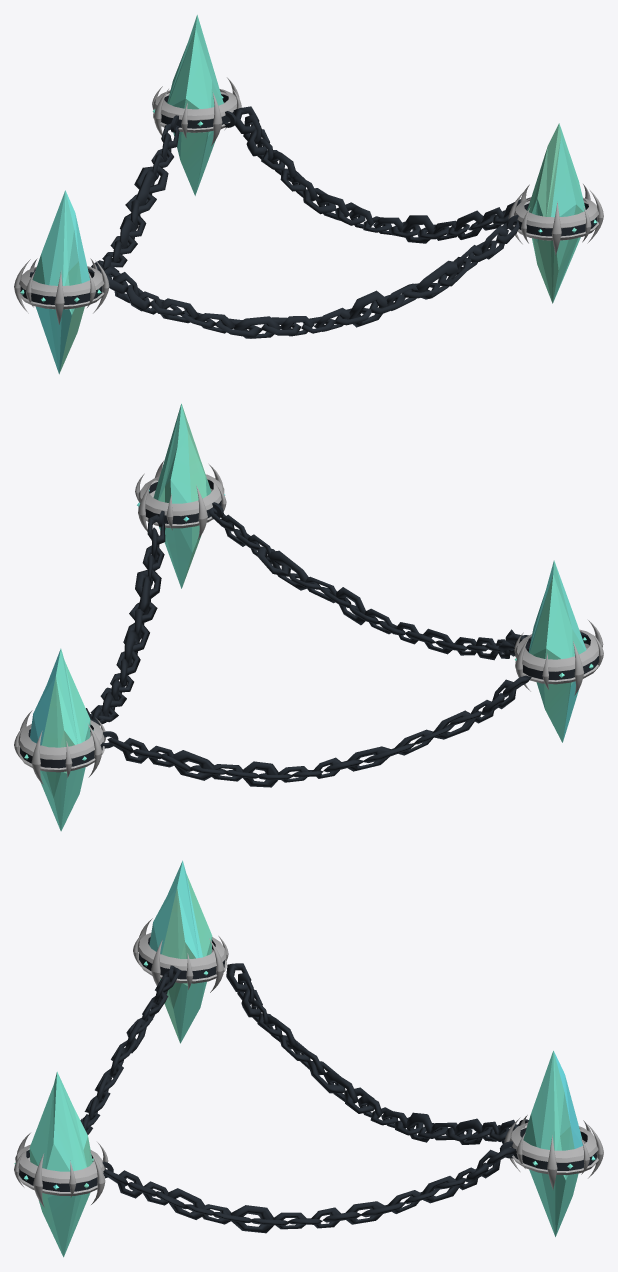
File: alter.fbx
The picture shows the model from 3 angles, top to bottom: view 1: azimuth 30°, elevation 25°; view 2: azimuth 150°, elevation 25°; view 3: azimuth 270°, elevation 25°; orthographic projection. The views are drawn at different scales.
Visible parts, largest first — view 1: Object043; view 2: Object043; view 3: Object043.
Boxes of the visible parts, <box> form: Object043: <box>14,15,603,374</box>; Object043: <box>14,403,603,831</box>; Object043: <box>14,860,603,1257</box>.
Bounding box in the file's own units: 375 × 362 × 154.
1 material, 1 textured.
